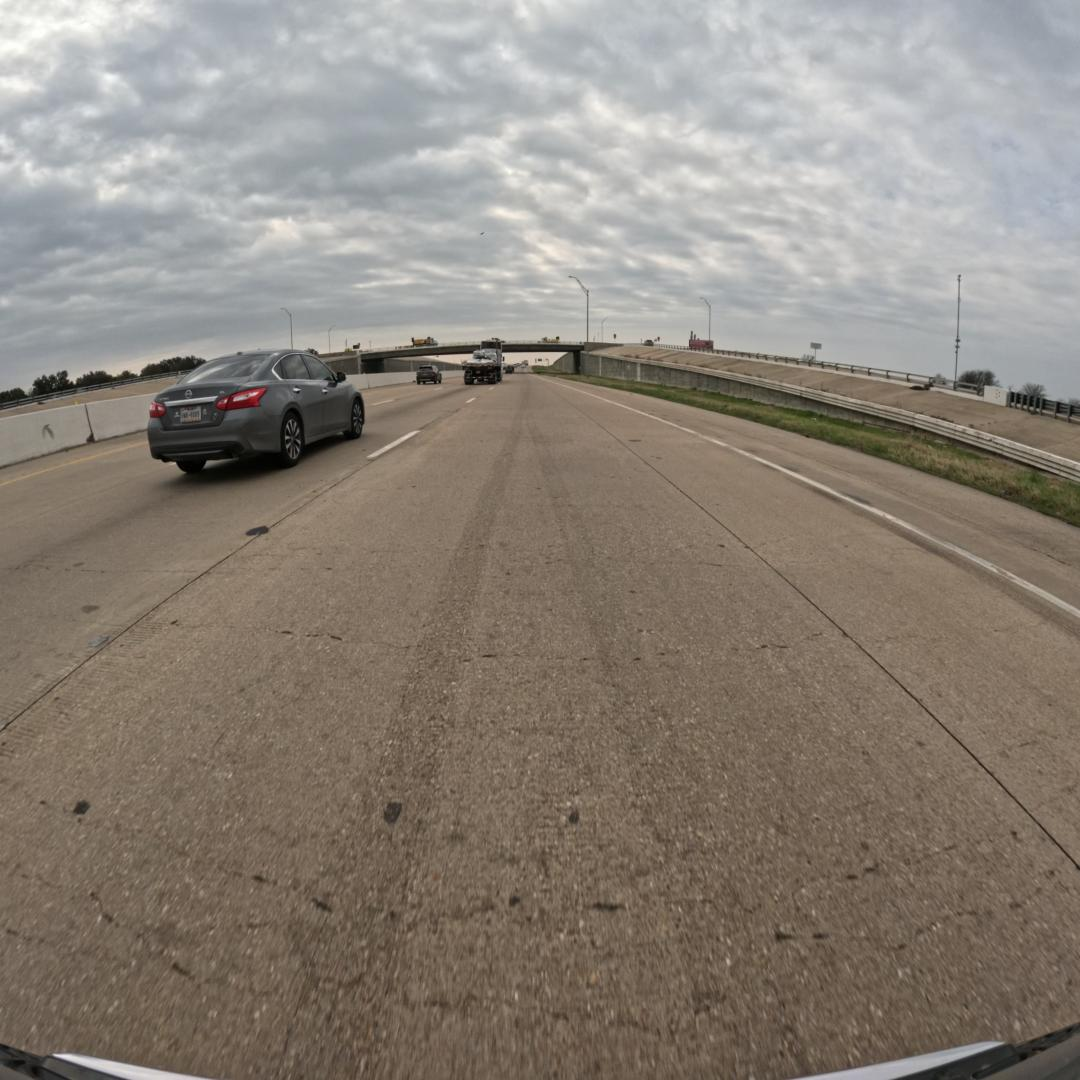lane0: (0, 379, 1080, 1080)
lane1: (0, 385, 480, 727)
